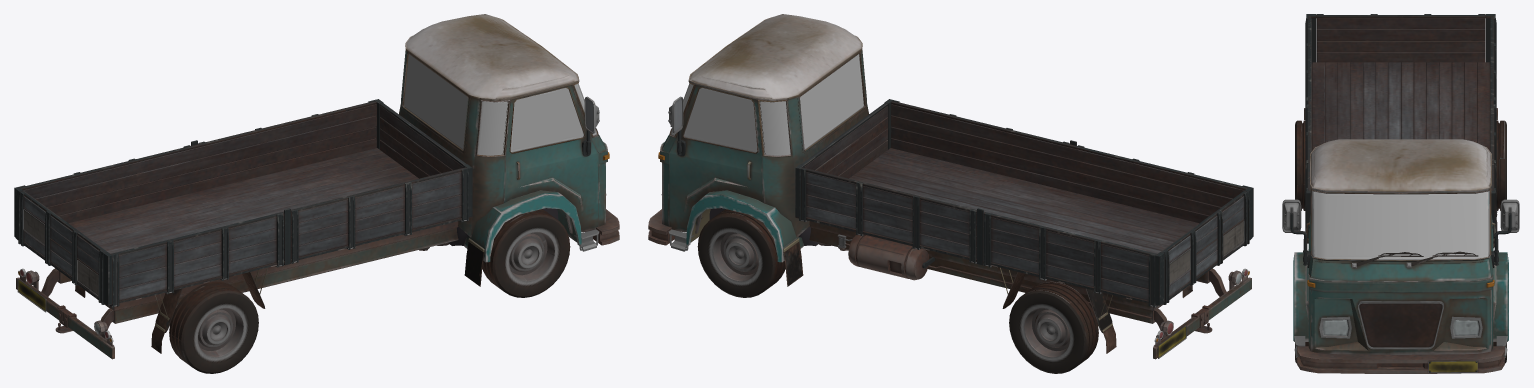
Rendered from 04_large_stake_truck.glb.
The picture shows the model from 3 angles, left to right: view 1: azimuth 30°, elevation 25°; view 2: azimuth 150°, elevation 25°; view 3: azimuth 270°, elevation 25°; orthographic projection.
Parts seen in each view (by area): view 1: Cylinder.095, Cylinder.094, Cylinder.097; view 2: Cylinder.095, Cylinder.096, Cylinder.093; view 3: Cylinder.095, Cylinder.094, Cylinder.096.
Part boxes in pixels (x1=…): Cylinder.095: x1=14, y1=14, x2=619, y2=359; Cylinder.094: x1=169, y1=281, x2=258, y2=373; Cylinder.097: x1=482, y1=209, x2=570, y2=297; Cylinder.095: x1=648, y1=14, x2=1253, y2=359; Cylinder.096: x1=1009, y1=281, x2=1098, y2=373; Cylinder.093: x1=697, y1=209, x2=785, y2=297; Cylinder.095: x1=1282, y1=14, x2=1519, y2=373; Cylinder.094: x1=1295, y1=120, x2=1305, y2=210; Cylinder.096: x1=1496, y1=120, x2=1506, y2=210.
Size of the model in its own units: 6.69 by 2.59 by 2.62.
Materials: 1 (1 with a texture image).
